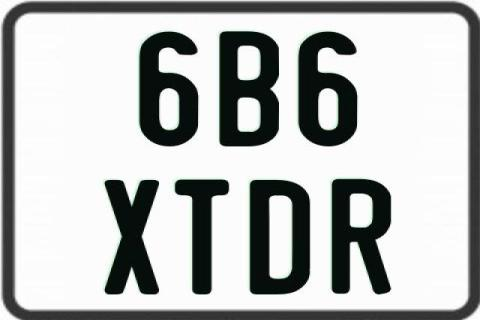0: (298, 31, 358, 149), (138, 29, 199, 145)
B: (220, 30, 285, 148)
D: (248, 180, 308, 298)
R: (331, 178, 390, 294)
T: (174, 179, 228, 297)
X: (102, 178, 160, 294)
